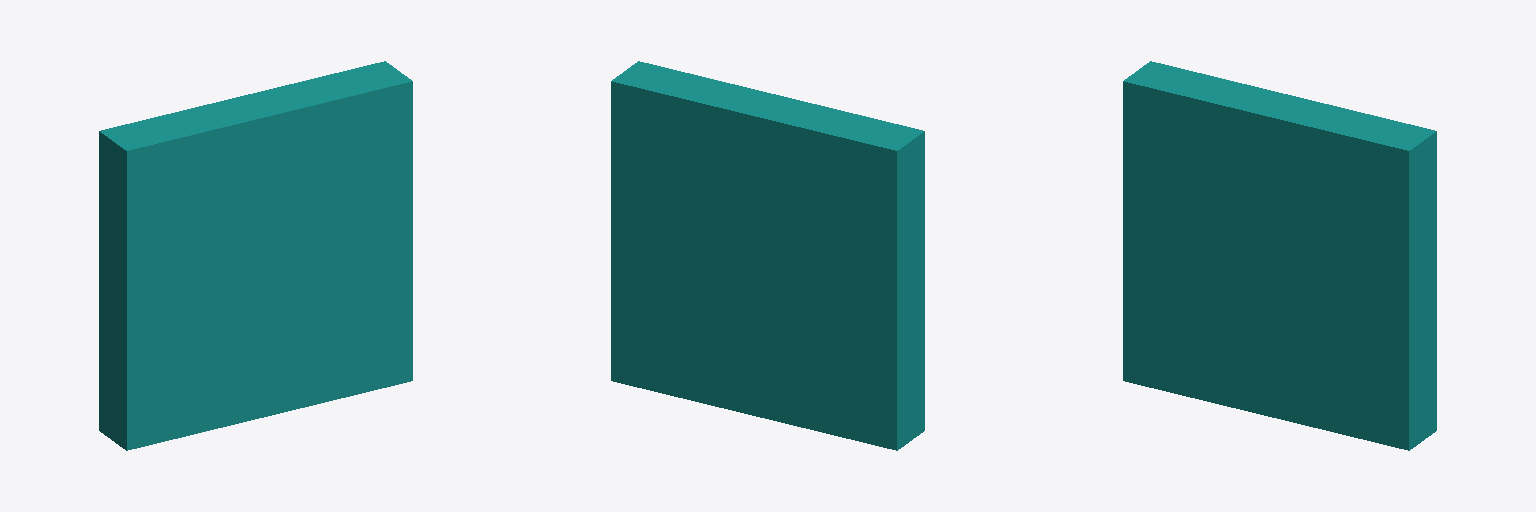
3 views of the same model, side by side, from view 1: azimuth 30°, elevation 25°; view 2: azimuth 150°, elevation 25°; view 3: azimuth 330°, elevation 25° (orthographic).
Parts seen in each view (by area): view 1: object 1; view 2: object 1; view 3: object 1.
Part boxes in pixels (bbox=[...]): object 1: bbox=[99, 61, 412, 450]; object 1: bbox=[611, 61, 924, 450]; object 1: bbox=[1123, 61, 1436, 450].
Size of the model in its own units: 0.6 by 0.6 by 0.1.
Materials: 1 (1 with a texture image).